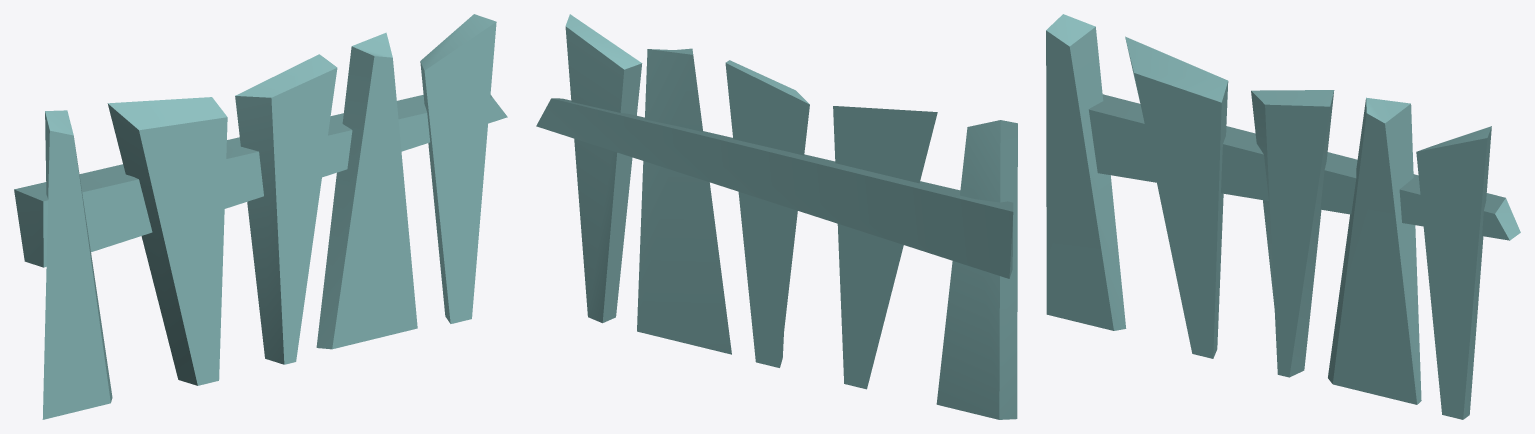
The model's file is c_fence_planks_white_aa.fbx.
3 views of the same model, side by side, from view 1: azimuth 30°, elevation 25°; view 2: azimuth 150°, elevation 25°; view 3: azimuth 330°, elevation 25° (orthographic).
Visible parts, largest first — view 1: c_fence_planks_white_aa; view 2: c_fence_planks_white_aa; view 3: c_fence_planks_white_aa.
Boxes of the visible parts, left/top/right/bottom form: c_fence_planks_white_aa: left=14, top=14, right=507, bottom=419; c_fence_planks_white_aa: left=536, top=14, right=1017, bottom=419; c_fence_planks_white_aa: left=1046, top=14, right=1520, bottom=419.
Size of the model in its own units: 2.16 by 1.3 by 0.1578.
